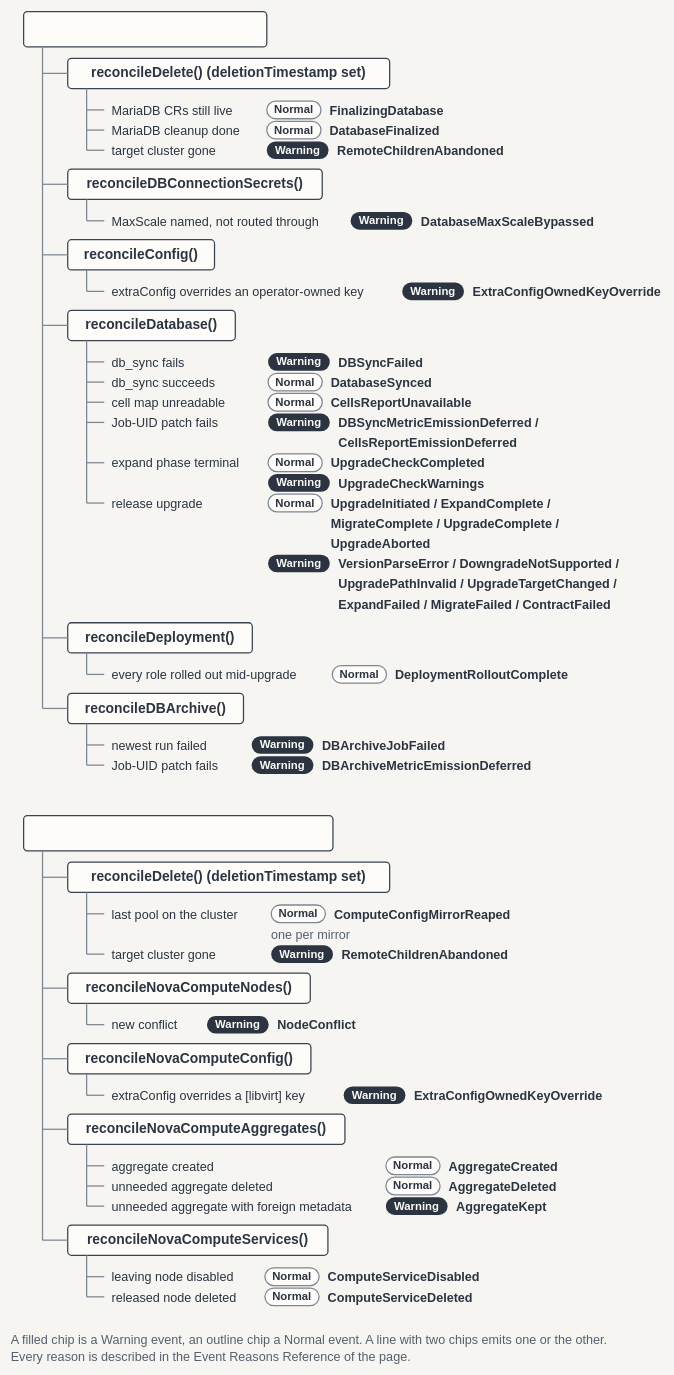
Some shapes in this 674 by 1375 pixel diagram are drawn without their labels. Each missing label, with the centre of its shape:
"NovaComputeReconciler.Reconcile()" belongs at point (178, 833).
"NovaReconciler.Reconcile()" belongs at point (145, 29).
